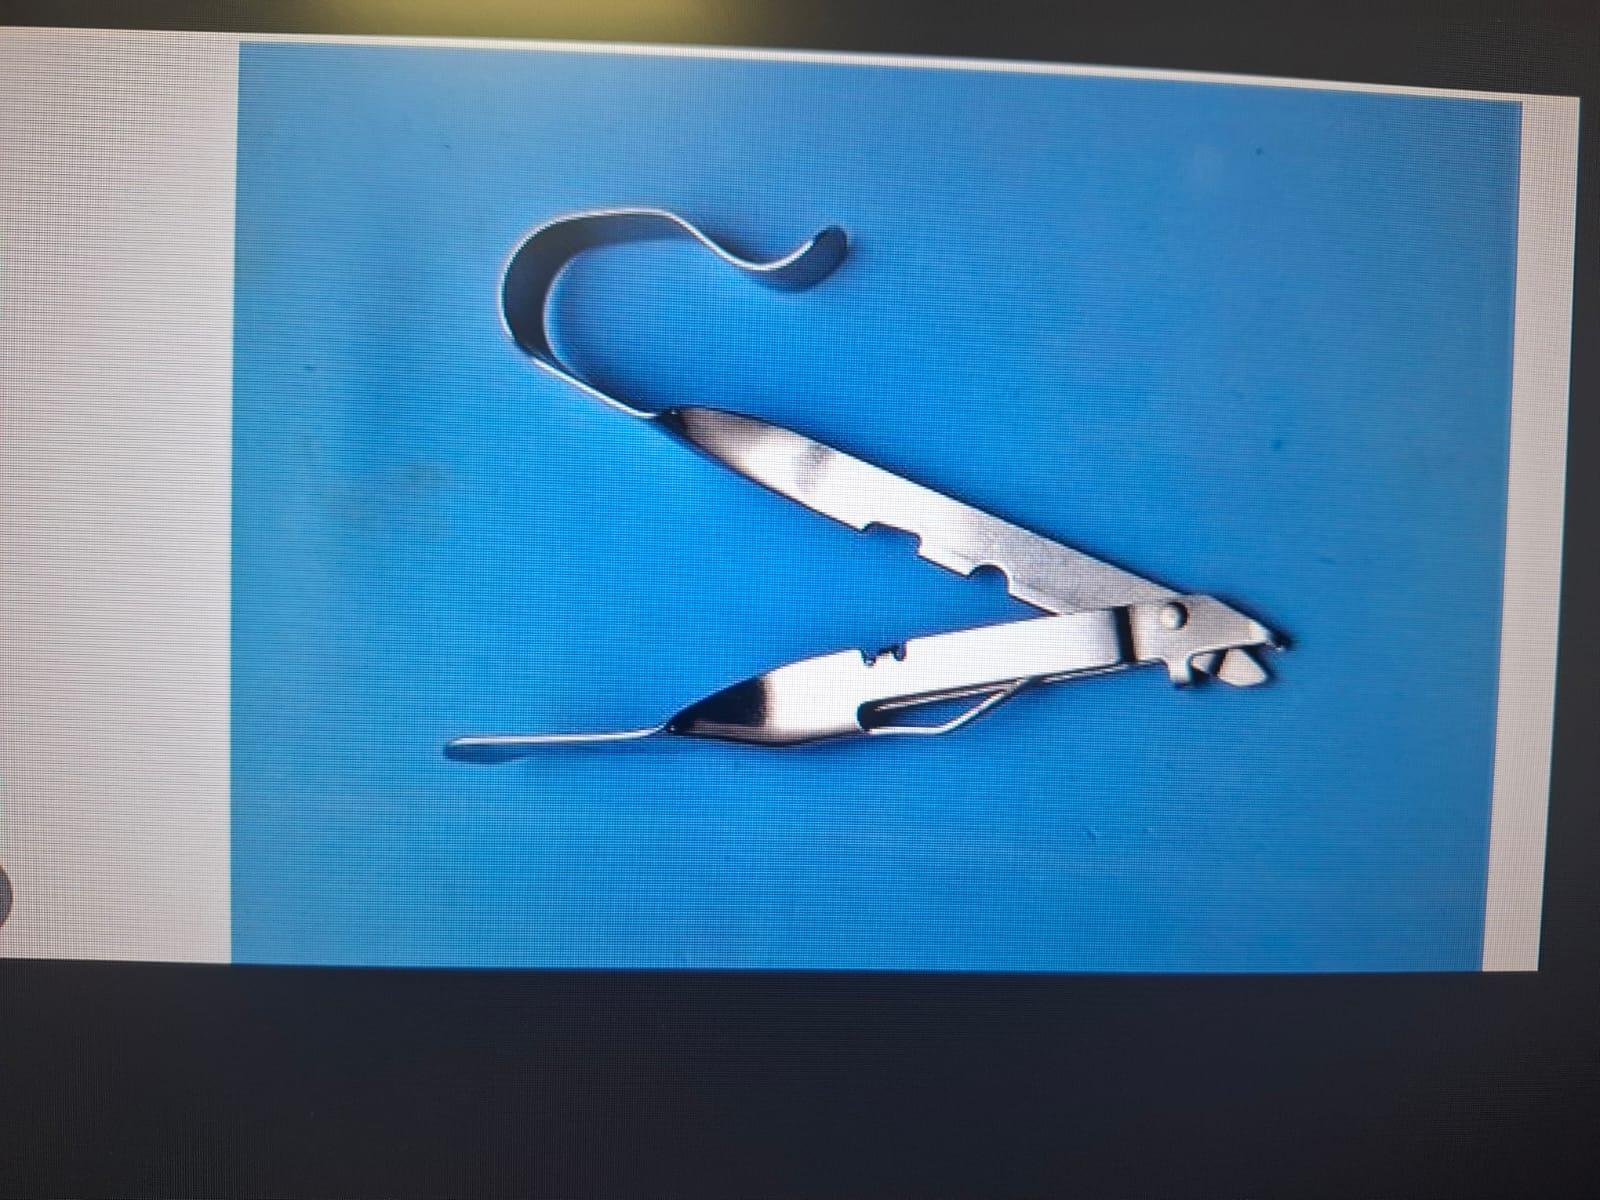Stapler Remover: (416, 174, 1308, 771)
